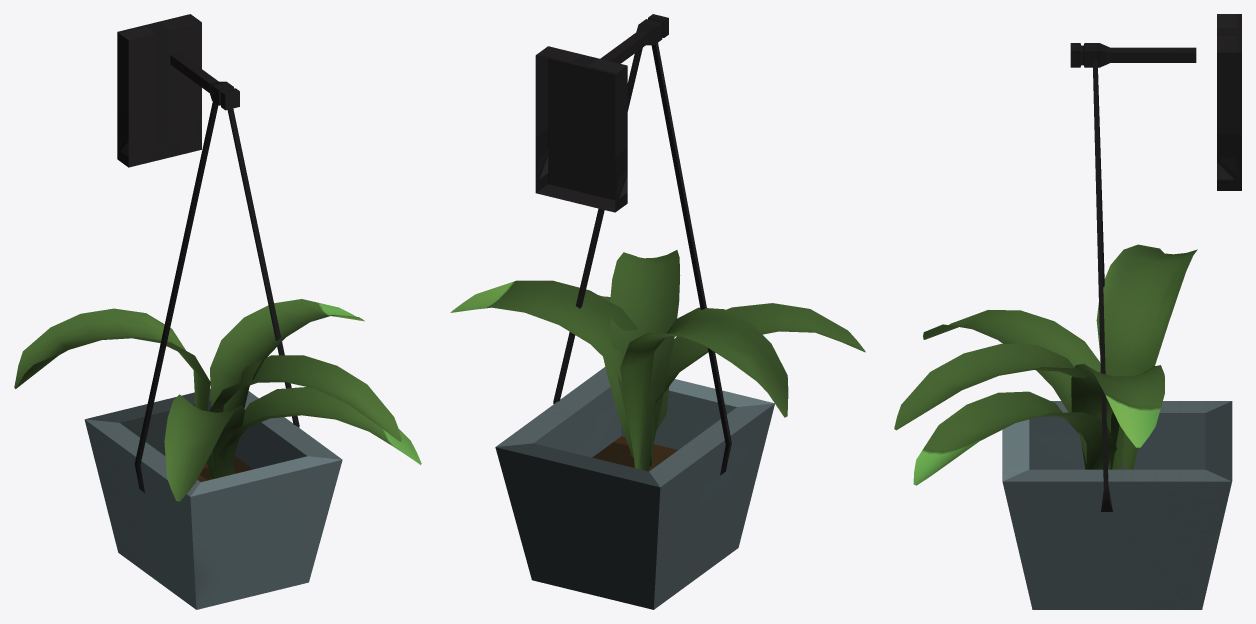
The model's file is Tx_prop_hanging flower pot_2.fbx.
The picture shows the model from 3 angles, left to right: view 1: azimuth 30°, elevation 25°; view 2: azimuth 150°, elevation 25°; view 3: azimuth 270°, elevation 25°; orthographic projection. The views are drawn at different scales.
Visible parts, largest first — view 1: Tx_prop_hanging_flower_pot_10; view 2: Tx_prop_hanging_flower_pot_10; view 3: Tx_prop_hanging_flower_pot_10.
Boxes of the visible parts, <box> form: Tx_prop_hanging_flower_pot_10: <box>14,14,421,609</box>; Tx_prop_hanging_flower_pot_10: <box>450,14,865,609</box>; Tx_prop_hanging_flower_pot_10: <box>894,14,1241,609</box>.
Bounding box in the file's own units: 2.71 × 3.95 × 2.28.
1 material, 1 textured.
